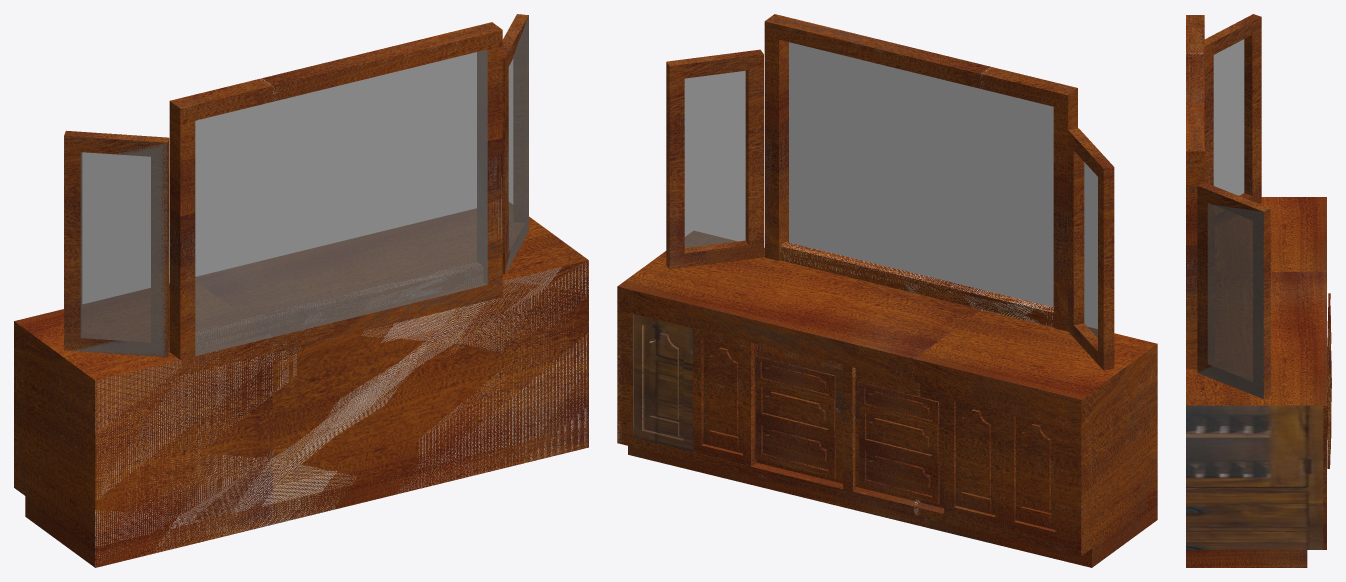
3 views of the same model, side by side, from view 1: azimuth 30°, elevation 25°; view 2: azimuth 150°, elevation 25°; view 3: azimuth 270°, elevation 25° (orthographic). The views are drawn at different scales.
Parts seen in each view (by area): view 1: mesh27_mesh27-geometry, mesh46_mesh46-geometry, mesh26_mesh26-geometry, mesh25_mesh25-geometry, mesh45_mesh45-geometry; view 2: mesh27_mesh27-geometry, mesh25_mesh25-geometry, mesh26_mesh26-geometry, mesh22_mesh22-geometry, mesh45_mesh45-geometry, mesh1_mesh1-geometry, mesh6_mesh6-geometry, mesh14_mesh14-geometry, mesh15_mesh15-geometry, mesh7_mesh7-geometry; view 3: mesh27_mesh27-geometry, mesh26_mesh26-geometry, mesh25_mesh25-geometry, mesh1_mesh1-geometry.
Boxes of the visible parts, x1,y1,x2,y2 form: mesh27_mesh27-geometry: [14, 22, 588, 567]; mesh46_mesh46-geometry: [95, 260, 588, 566]; mesh26_mesh26-geometry: [64, 15, 528, 357]; mesh25_mesh25-geometry: [64, 14, 528, 357]; mesh45_mesh45-geometry: [195, 262, 482, 350]; mesh27_mesh27-geometry: [617, 14, 1157, 567]; mesh25_mesh25-geometry: [666, 49, 1114, 370]; mesh26_mesh26-geometry: [684, 71, 1097, 337]; mesh22_mesh22-geometry: [633, 314, 692, 452]; mesh45_mesh45-geometry: [779, 242, 1053, 326]; mesh1_mesh1-geometry: [755, 355, 939, 426]; mesh6_mesh6-geometry: [859, 443, 939, 504]; mesh14_mesh14-geometry: [755, 417, 836, 478]; mesh15_mesh15-geometry: [755, 380, 835, 436]; mesh7_mesh7-geometry: [859, 406, 938, 462]; mesh27_mesh27-geometry: [1186, 15, 1327, 567]; mesh26_mesh26-geometry: [1197, 39, 1263, 398]; mesh25_mesh25-geometry: [1197, 14, 1270, 398]; mesh1_mesh1-geometry: [1327, 293, 1331, 396].
Size of the model in its own units: 0.7436 by 0.6316 by 0.2194.
